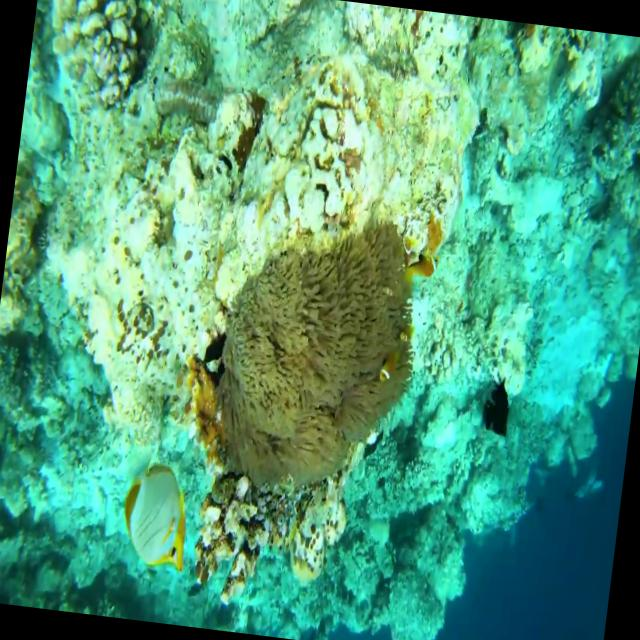fish: (110, 454, 198, 585), (474, 370, 518, 458)
